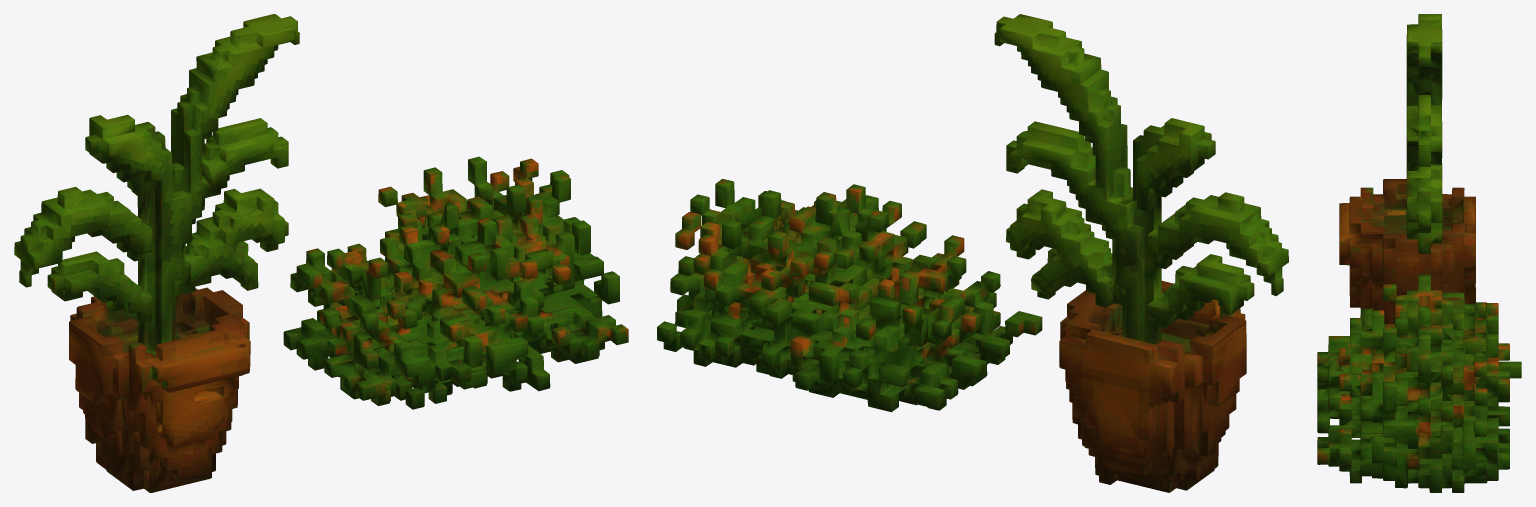
Rendered from porch_plant_psx.glb.
3 views of the same model, side by side, from view 1: azimuth 30°, elevation 25°; view 2: azimuth 150°, elevation 25°; view 3: azimuth 270°, elevation 25° (orthographic). The views are drawn at different scales.
Visible parts, largest first — view 1: plant_psx; view 2: plant_psx; view 3: plant_psx.
Boxes of the visible parts, box(x1,y1,x2,y2) form: plant_psx: box(14, 14, 628, 492); plant_psx: box(657, 14, 1288, 492); plant_psx: box(1317, 14, 1521, 492).
Bounding box in the file's own units: 1.07 × 0.7385 × 0.3813.
1 material, 1 textured.
